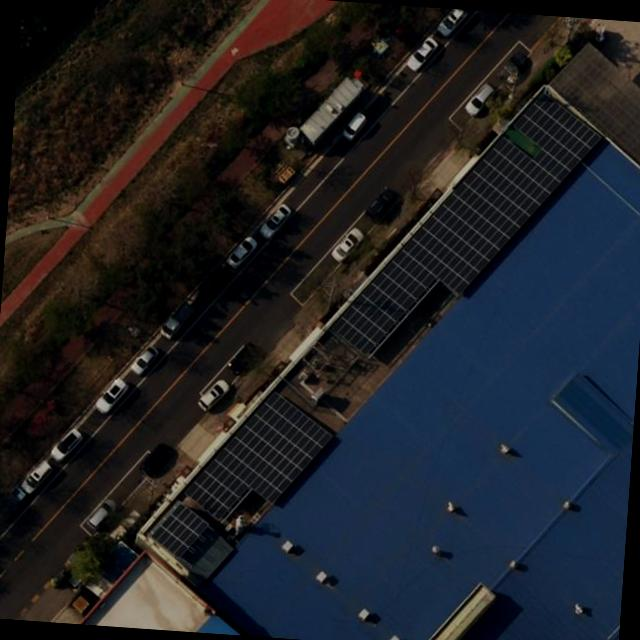solar: (324, 74, 610, 373), (181, 383, 338, 528), (146, 501, 214, 564)
